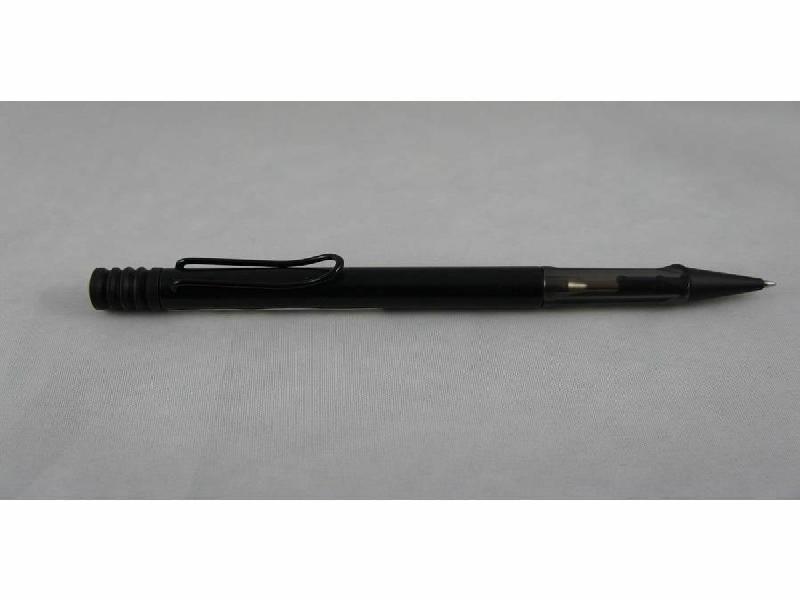pen: (85, 249, 782, 317)
